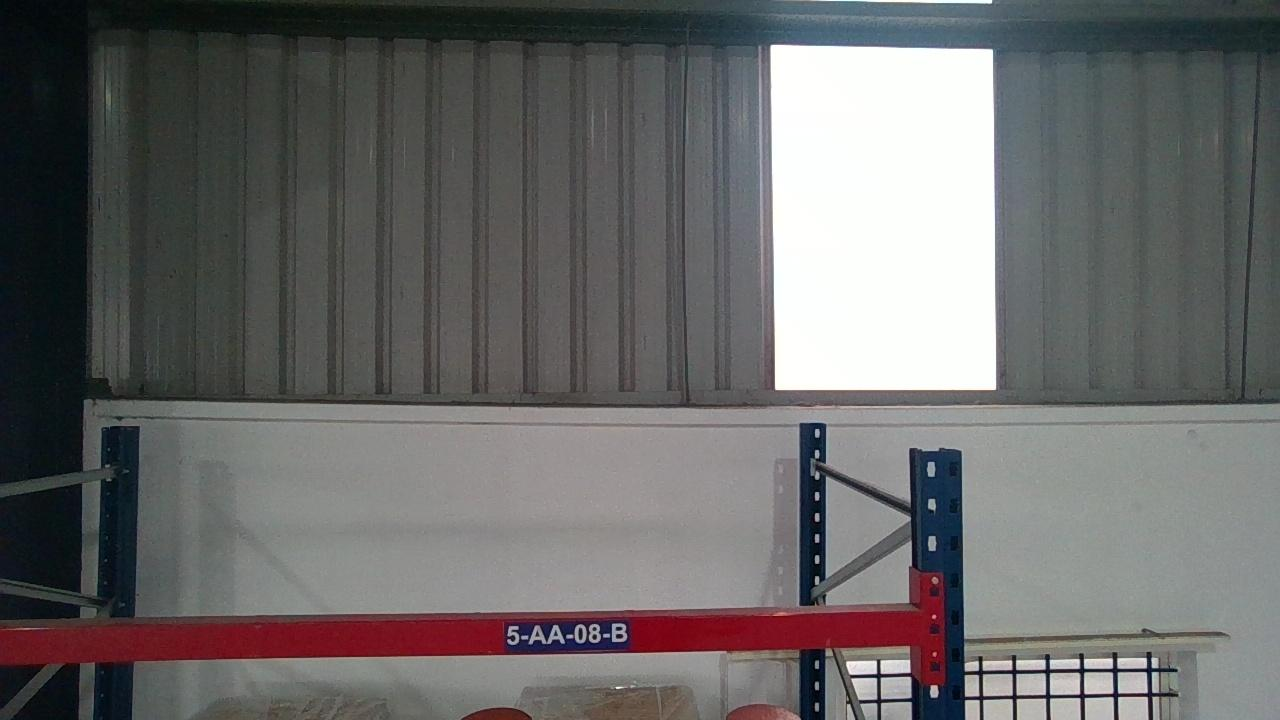h_rack: (2, 612, 923, 658)
